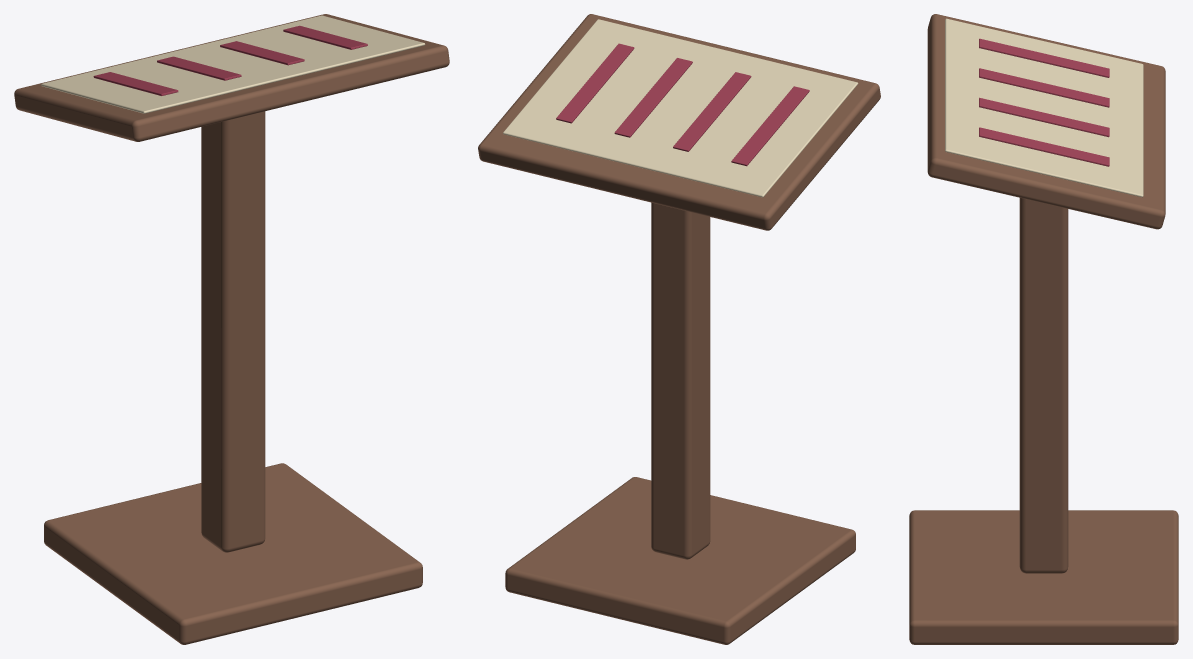
Rendered from griffin-airmail-roost-and-posthouse-route-map-lectern-8634b74f.glb.
The picture shows the model from 3 angles, left to right: view 1: azimuth 30°, elevation 25°; view 2: azimuth 150°, elevation 25°; view 3: azimuth 270°, elevation 25°; orthographic projection. The views are drawn at different scales.
Parts seen in each view (by area): view 1: route-map-lectern; view 2: route-map-lectern; view 3: route-map-lectern.
Boxes of the visible parts, <box> form: route-map-lectern: <box>14,14,449,644</box>; route-map-lectern: <box>478,14,880,644</box>; route-map-lectern: <box>909,14,1178,644</box>.
Bounding box in the file's own units: 0.65 × 1.04 × 0.5.
